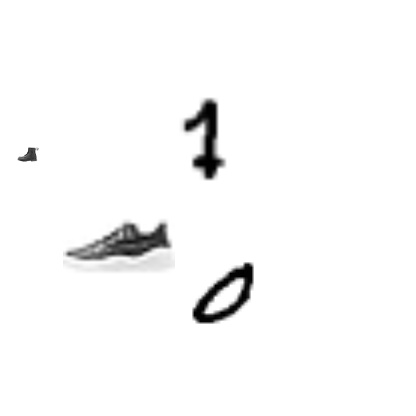0: (181, 251, 265, 335)
1: (149, 79, 261, 191)
Ankle_boot: (17, 143, 39, 165)
Sneaker: (63, 188, 175, 300)
